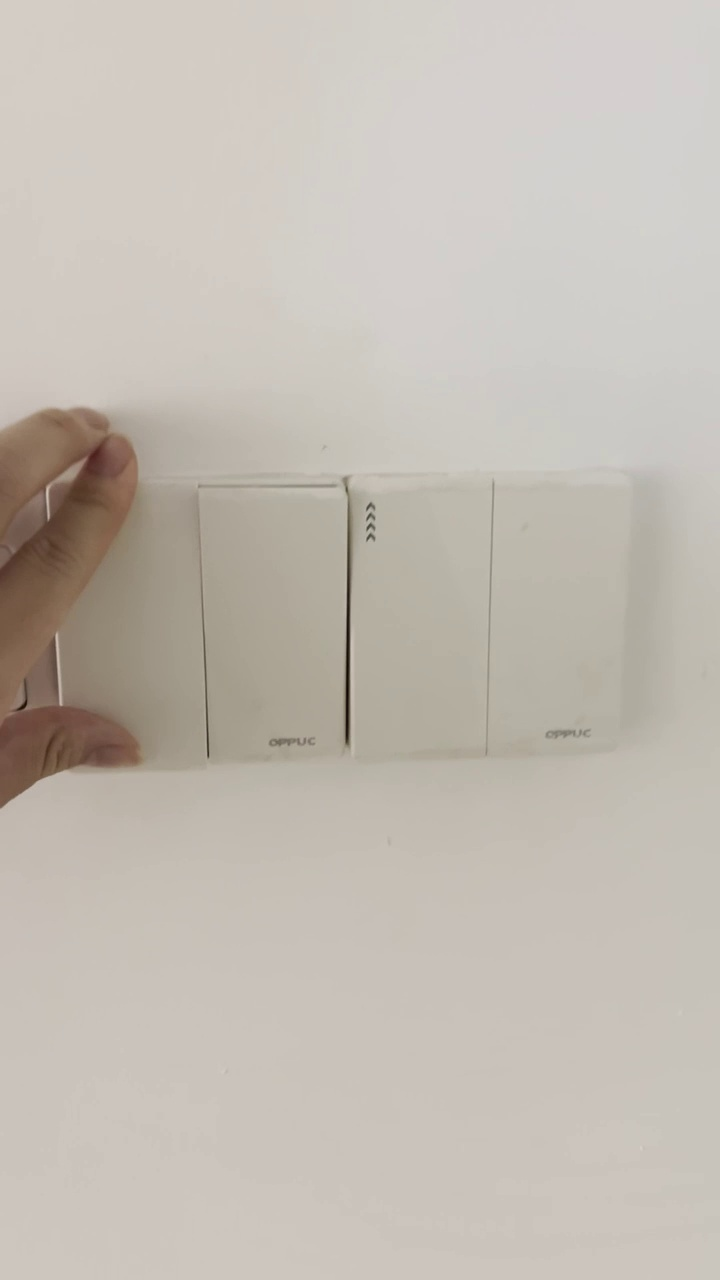button1: (54, 484, 202, 763), (354, 482, 489, 757), (210, 487, 344, 760), (495, 482, 617, 751)
